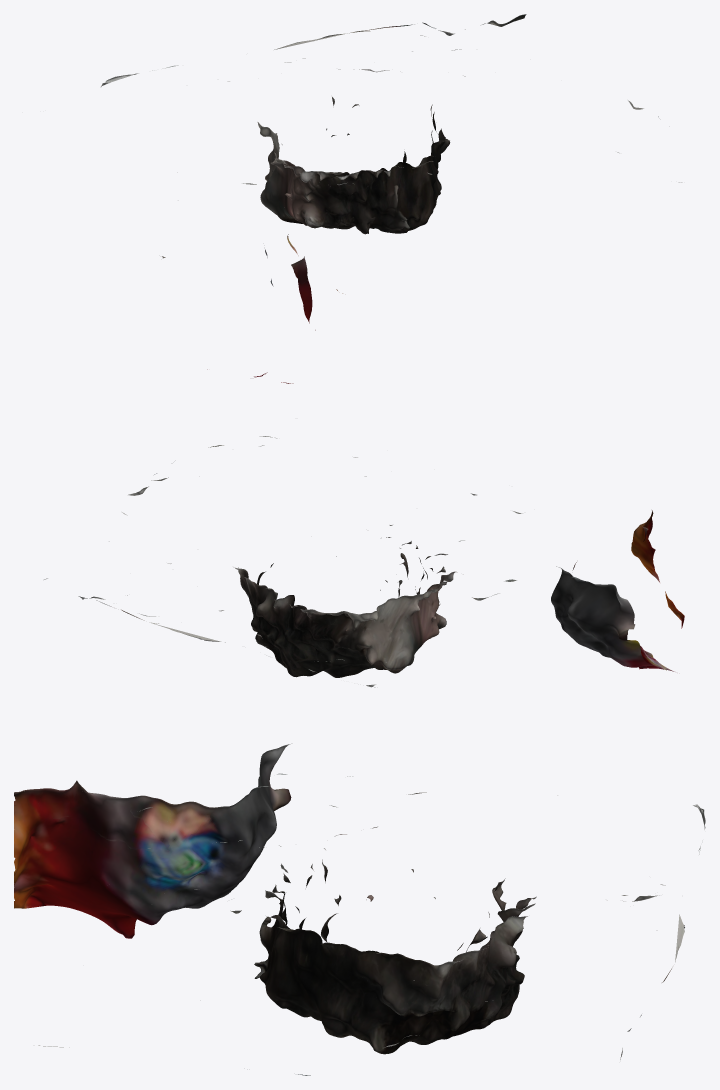
3 views of the same model, one above another, from view 1: azimuth 30°, elevation 25°; view 2: azimuth 150°, elevation 25°; view 3: azimuth 270°, elevation 25° (orthographic). The views are drawn at different scales.
Size of the model in its own units: 2.78 by 0.7305 by 2.51.
1 material, 1 textured.
